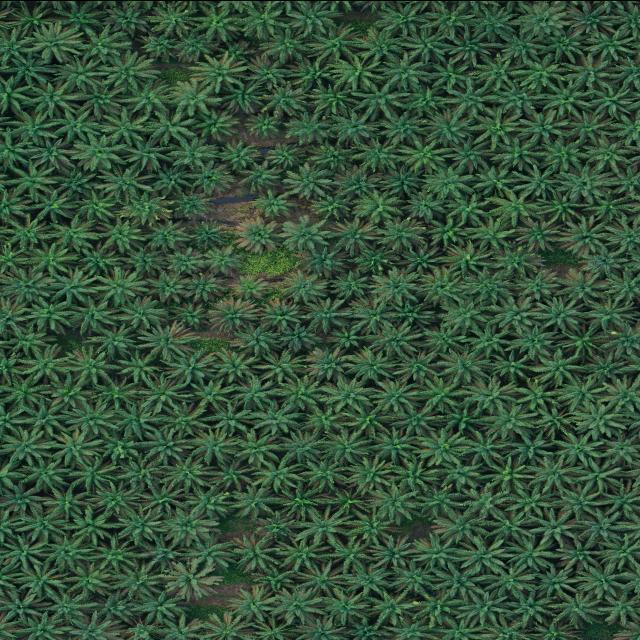Kelapa_Sawit: (157, 560, 225, 602), (413, 428, 473, 466), (162, 508, 219, 546), (386, 458, 446, 494), (368, 483, 422, 523), (343, 508, 401, 544), (558, 216, 610, 256), (66, 346, 118, 386), (298, 505, 350, 545), (92, 266, 146, 304), (526, 508, 580, 546), (558, 166, 618, 200), (138, 324, 198, 358), (96, 165, 154, 200), (115, 504, 165, 544), (0, 428, 57, 463), (424, 0, 476, 38), (233, 216, 285, 254), (454, 536, 506, 574), (318, 429, 374, 464), (428, 508, 482, 544), (5, 162, 56, 200), (189, 56, 249, 88), (230, 533, 278, 573), (112, 403, 165, 439), (374, 2, 430, 36), (582, 296, 638, 330), (481, 563, 537, 597), (546, 590, 602, 624), (532, 349, 586, 384), (208, 296, 260, 332), (162, 349, 214, 385), (502, 536, 554, 572), (274, 534, 326, 570), (397, 28, 452, 62), (249, 458, 304, 492), (252, 349, 305, 384), (186, 533, 236, 570), (366, 322, 420, 356), (482, 404, 536, 438), (195, 5, 247, 40), (139, 429, 191, 464), (507, 484, 559, 519), (26, 243, 81, 276), (203, 404, 256, 438), (47, 268, 97, 304), (20, 344, 70, 380), (1, 374, 46, 414), (322, 376, 372, 412), (574, 402, 624, 438), (185, 484, 235, 520), (110, 564, 160, 600), (118, 192, 174, 224), (63, 402, 119, 434), (12, 564, 68, 596), (480, 509, 531, 544), (440, 243, 494, 276), (98, 56, 157, 86), (282, 216, 334, 250), (438, 350, 490, 384), (270, 589, 322, 623), (424, 108, 473, 144), (137, 377, 186, 413), (43, 536, 92, 572), (436, 299, 491, 331), (84, 538, 139, 570), (348, 459, 398, 494), (459, 379, 515, 410), (30, 25, 81, 59), (518, 2, 569, 36), (400, 138, 451, 172), (65, 509, 116, 543), (306, 27, 360, 59), (100, 217, 148, 253), (554, 269, 608, 301), (371, 268, 419, 304), (0, 270, 54, 302), (345, 348, 399, 380), (370, 380, 424, 412), (51, 430, 105, 462), (64, 562, 112, 598), (98, 109, 150, 142), (423, 167, 475, 200), (418, 483, 464, 520), (486, 191, 536, 225), (2, 216, 52, 250), (371, 430, 421, 464), (578, 509, 628, 543), (536, 296, 584, 331), (89, 324, 137, 359), (212, 348, 260, 383), (71, 456, 119, 491), (118, 457, 166, 492), (506, 430, 554, 465), (51, 217, 100, 251), (418, 270, 467, 304), (446, 82, 498, 114), (144, 110, 196, 142), (529, 459, 581, 491), (570, 566, 622, 598), (281, 163, 331, 196), (470, 5, 518, 39), (566, 57, 614, 91), (351, 190, 402, 222), (26, 298, 74, 332), (163, 404, 211, 438), (279, 375, 327, 409), (136, 537, 184, 571), (367, 592, 415, 626), (411, 590, 462, 622), (435, 562, 483, 596), (234, 4, 288, 34), (288, 2, 342, 32), (168, 80, 222, 110), (294, 564, 348, 594), (72, 137, 124, 168), (228, 587, 280, 618), (443, 138, 493, 170), (472, 112, 522, 144), (464, 269, 514, 301), (70, 298, 120, 330), (250, 404, 300, 436), (22, 458, 72, 490), (320, 592, 370, 624), (504, 592, 554, 624), (462, 591, 509, 625), (382, 110, 426, 146), (120, 297, 168, 330), (554, 431, 602, 464), (464, 484, 508, 520), (556, 485, 604, 518), (19, 507, 63, 543), (131, 591, 182, 622), (29, 189, 78, 221), (392, 563, 441, 595), (352, 31, 406, 60), (126, 80, 172, 114), (54, 107, 100, 141), (512, 325, 558, 359), (90, 377, 136, 411), (440, 458, 486, 492), (410, 536, 456, 570), (367, 535, 413, 569), (232, 433, 284, 463), (42, 590, 94, 620), (46, 378, 93, 411), (448, 30, 498, 61), (282, 111, 332, 142), (494, 138, 542, 170), (516, 218, 564, 250), (164, 456, 212, 488), (300, 457, 348, 489), (232, 485, 280, 517), (149, 4, 200, 34), (518, 112, 569, 142), (374, 218, 425, 248), (323, 538, 368, 572), (584, 85, 633, 116), (514, 378, 560, 411), (296, 246, 350, 274), (248, 188, 300, 217), (0, 535, 43, 570), (233, 378, 280, 410), (461, 430, 508, 462), (54, 58, 104, 88), (584, 192, 634, 222), (493, 244, 543, 274), (540, 138, 584, 172), (596, 432, 640, 466), (556, 536, 600, 570), (262, 85, 310, 116), (514, 270, 562, 301), (5, 328, 58, 356), (479, 463, 532, 491), (520, 58, 566, 90), (347, 297, 393, 329), (233, 322, 279, 354), (466, 324, 512, 356), (114, 352, 160, 384), (140, 482, 186, 514), (539, 30, 588, 60), (7, 55, 56, 85), (54, 4, 106, 32), (570, 2, 614, 35), (472, 165, 516, 198), (252, 509, 296, 542), (466, 219, 516, 248), (188, 431, 238, 460), (67, 615, 125, 640), (102, 4, 150, 34), (78, 84, 126, 114), (10, 112, 58, 142), (28, 138, 76, 168), (582, 139, 630, 169), (536, 193, 584, 223), (146, 219, 191, 251), (492, 299, 540, 329), (304, 350, 352, 380), (557, 378, 605, 408), (576, 460, 624, 490), (190, 378, 232, 412), (44, 487, 90, 518), (91, 483, 138, 513), (322, 486, 369, 516), (291, 56, 335, 88), (22, 404, 66, 436), (1, 483, 45, 515), (29, 84, 79, 112), (344, 407, 394, 435), (332, 219, 380, 248), (578, 247, 626, 276), (176, 29, 218, 62), (82, 30, 128, 60), (124, 140, 170, 170), (170, 140, 216, 170), (192, 110, 238, 140), (332, 110, 378, 140), (353, 138, 399, 168), (400, 192, 446, 222), (52, 166, 98, 196), (560, 327, 606, 357), (418, 382, 464, 412), (282, 431, 328, 461), (210, 457, 253, 489), (600, 539, 640, 573), (74, 192, 119, 222), (312, 82, 354, 114), (446, 193, 488, 225), (305, 298, 353, 326), (394, 352, 442, 380), (534, 406, 582, 434), (90, 593, 138, 621), (344, 566, 392, 594), (544, 85, 590, 114), (390, 408, 436, 437), (601, 378, 640, 412), (606, 481, 640, 520), (433, 406, 482, 433), (308, 140, 352, 170), (566, 113, 610, 143), (192, 163, 234, 194), (332, 59, 382, 85), (247, 56, 290, 86), (399, 246, 442, 276), (282, 272, 328, 300), (382, 164, 422, 196), (423, 326, 467, 355), (11, 4, 53, 34), (384, 59, 429, 87), (516, 168, 558, 198), (80, 245, 122, 275), (488, 350, 530, 380), (0, 591, 42, 621), (20, 615, 70, 640), (0, 76, 32, 115), (204, 614, 252, 640), (586, 31, 632, 58), (474, 58, 518, 86), (499, 84, 543, 112), (171, 190, 215, 218), (534, 569, 578, 597), (604, 216, 640, 250), (604, 322, 640, 356), (203, 245, 245, 274), (431, 618, 486, 640), (329, 271, 372, 299), (334, 169, 380, 195), (352, 247, 398, 273), (425, 219, 471, 245), (263, 31, 307, 58), (402, 85, 444, 113), (302, 408, 344, 436), (583, 352, 625, 380), (292, 619, 347, 640), (390, 302, 438, 326), (431, 61, 475, 87), (310, 194, 354, 220), (184, 274, 228, 300), (528, 618, 580, 640), (190, 219, 228, 249), (146, 272, 184, 302), (100, 434, 138, 464), (358, 85, 400, 112), (223, 82, 263, 110), (126, 246, 166, 274), (605, 593, 640, 625), (170, 300, 207, 330), (248, 566, 294, 590), (262, 300, 304, 326), (159, 617, 206, 640), (504, 30, 540, 60), (280, 484, 316, 514), (150, 166, 190, 192), (0, 298, 26, 338), (384, 620, 436, 640), (167, 246, 204, 274), (0, 188, 32, 220), (606, 269, 640, 299), (217, 142, 259, 166), (612, 110, 640, 146), (281, 324, 317, 352), (0, 457, 27, 494), (140, 32, 178, 58), (240, 164, 280, 188), (248, 620, 296, 640), (481, 621, 531, 640), (613, 55, 640, 90), (232, 272, 268, 298), (328, 324, 364, 350), (244, 112, 282, 136), (0, 346, 24, 384), (0, 400, 25, 436), (0, 134, 29, 165), (266, 144, 302, 168), (346, 620, 389, 640), (614, 4, 640, 37), (0, 30, 29, 59), (0, 506, 24, 541), (123, 619, 162, 640), (215, 41, 255, 60), (614, 166, 640, 195), (0, 244, 26, 273)
